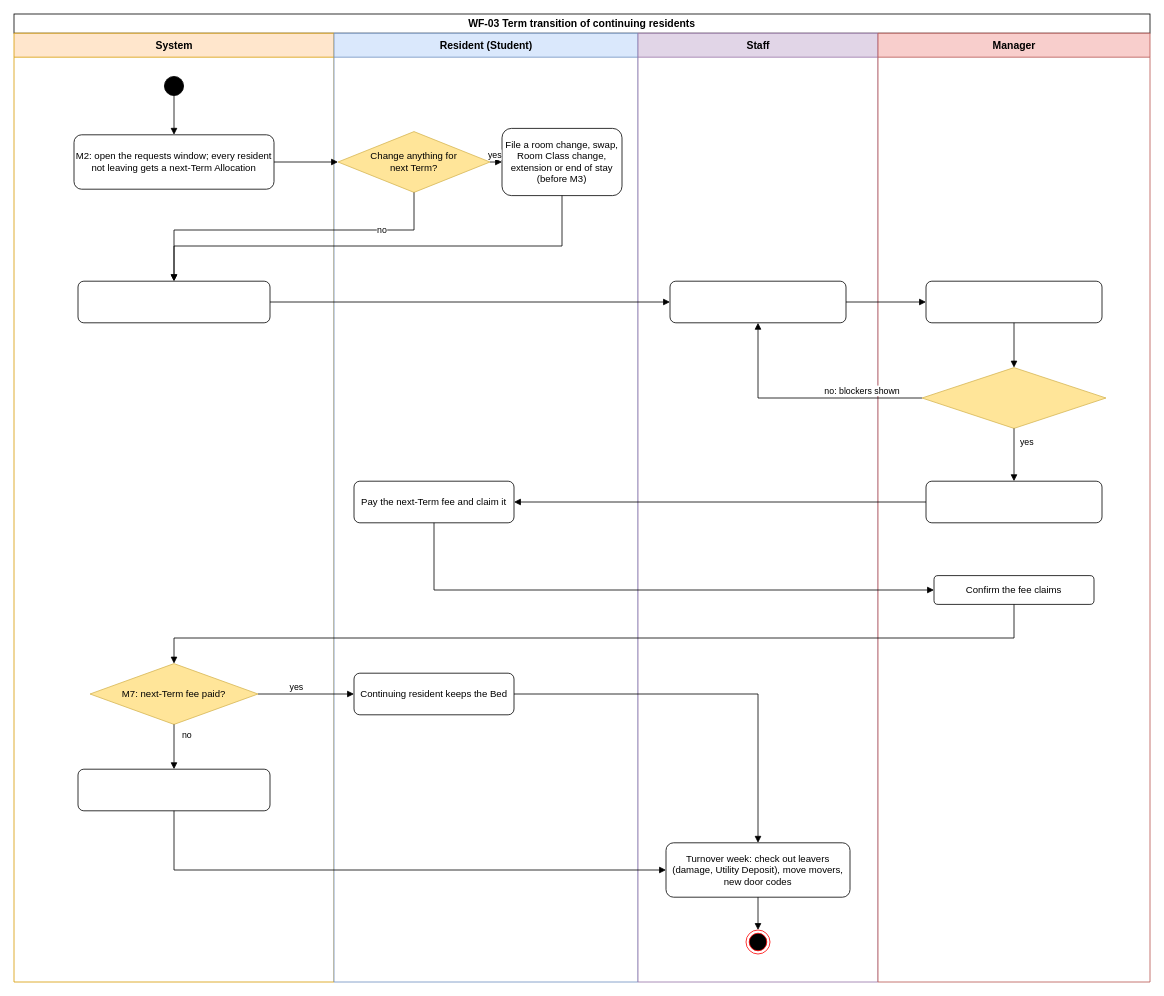
The diagram is 1164 pixels wide and 996 high, and some of its shapes have lost their labels. Each missing label, with the centre of its shape:
All requests decided and the list reconciled?: the point at 1013,397
Decide the Block's requests by M4 (one list, bulk decisions): the point at 757,301
Fee Void; next-Term Allocation cancelled; Bed released to Round 2: the point at 173,789
Issue the next-Term fees (once, with count and total): the point at 1013,501
M3: close filing; Beds not extended are released: the point at 173,301
Upload the enrolled list; resolve groups 1–2 (reconciliation): the point at 1013,301
